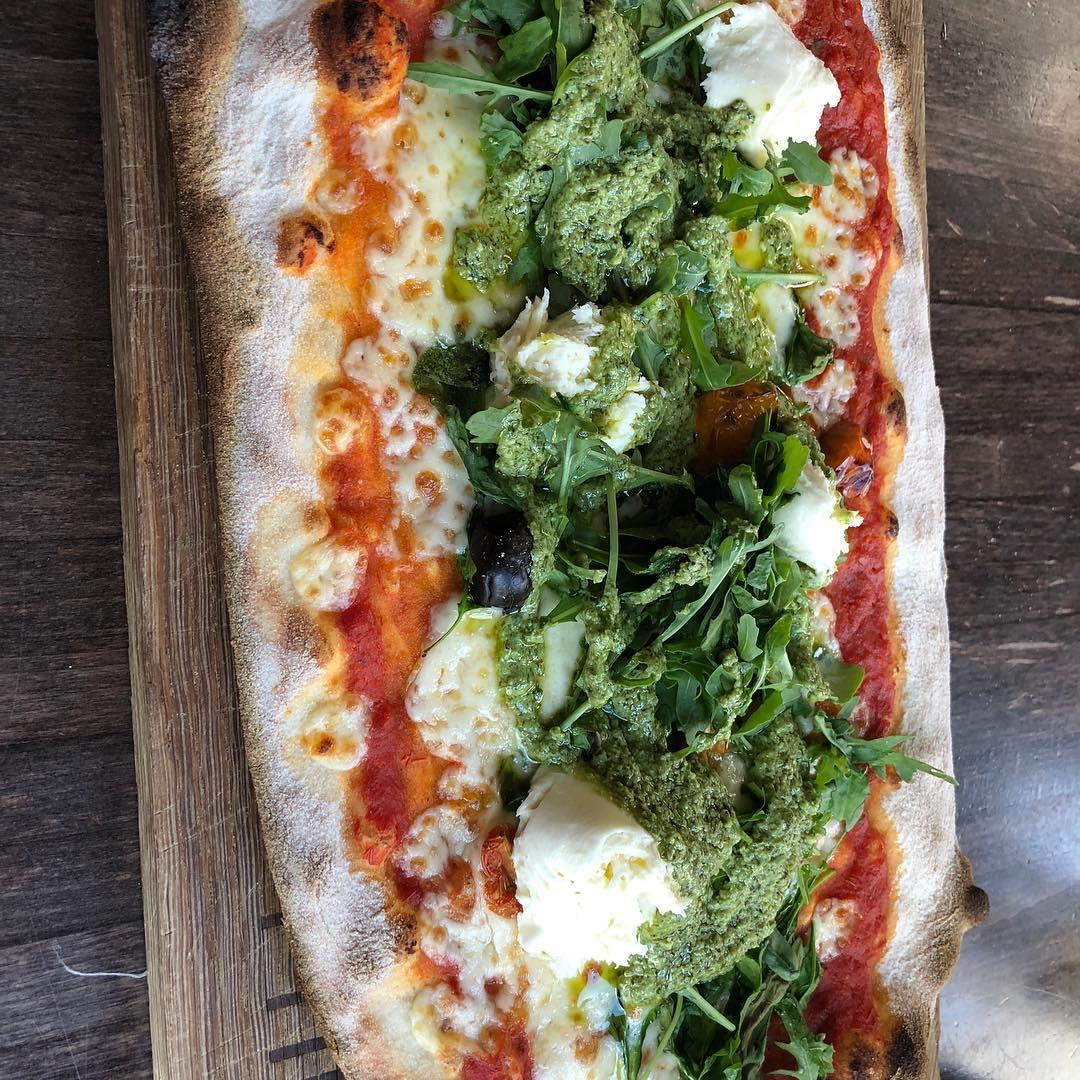Arugula: (687, 637, 870, 792), (693, 429, 836, 622), (616, 284, 769, 397), (709, 137, 830, 240)
Broccoli: (640, 650, 847, 1033), (475, 25, 706, 310), (495, 407, 678, 725)
Cheese: (503, 785, 654, 1008), (705, 5, 845, 155), (477, 297, 601, 389), (773, 453, 857, 570)
Olives: (461, 535, 534, 608)
Pizza: (149, 0, 942, 1080)
